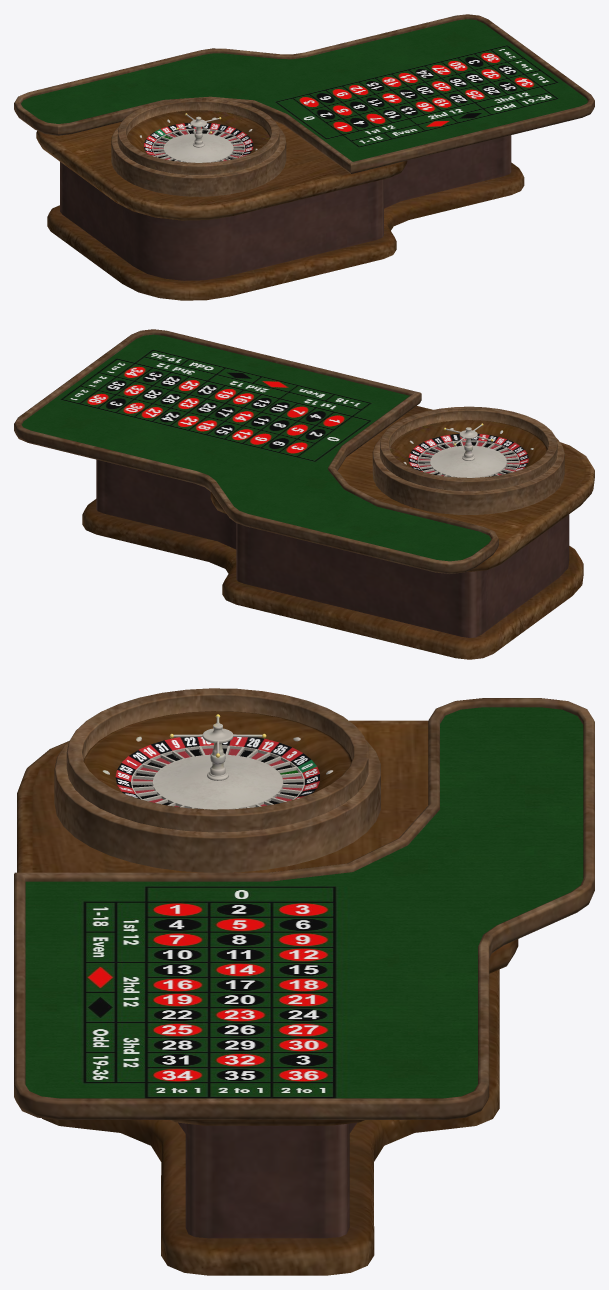
Rendered from roulette_table.glb.
3 views of the same model, one above another, from view 1: azimuth 30°, elevation 25°; view 2: azimuth 150°, elevation 25°; view 3: azimuth 270°, elevation 25° (orthographic). The views are drawn at different scales.
Visible parts, largest first — view 1: Object_3, Object_2, Object_4; view 2: Object_3, Object_2, Object_4; view 3: Object_2, Object_3, Object_4.
Part boxes in pixels (x1,y1,x2,y2): Object_3: [14, 14, 594, 300]; Object_2: [21, 19, 587, 161]; Object_4: [144, 122, 253, 162]; Object_3: [14, 329, 594, 659]; Object_2: [21, 334, 490, 561]; Object_4: [408, 433, 528, 477]; Object_2: [25, 707, 583, 1098]; Object_3: [14, 688, 594, 1275]; Object_4: [115, 737, 319, 809].
Bounding box in the file's own units: 41.65 × 12.43 × 25.24.
3 materials, 3 textured.
